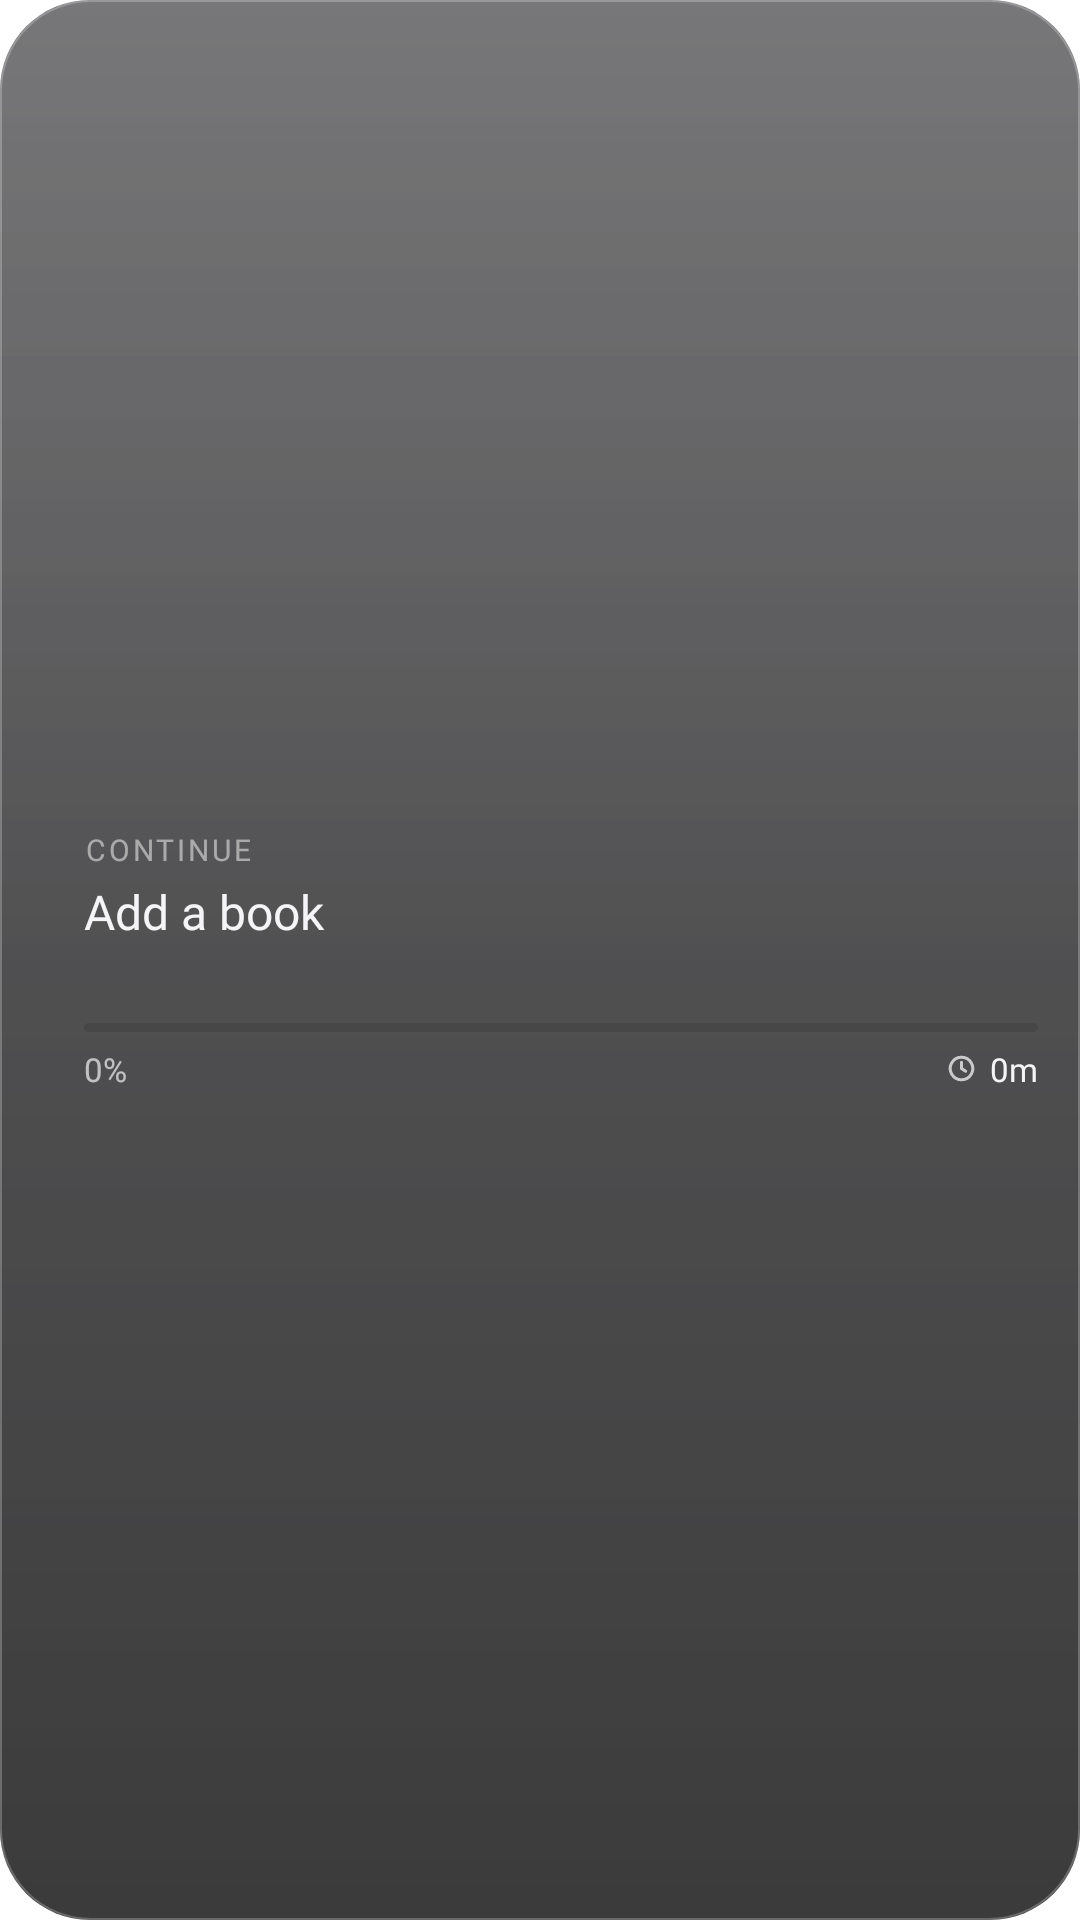

Icon bounding boxes for this 1080px x 1920px phone screenshot, format (x1=x1, y1=y1, x2=x2, y2=y2):
clock: (x1=948, y1=1055, x2=975, y2=1082)
